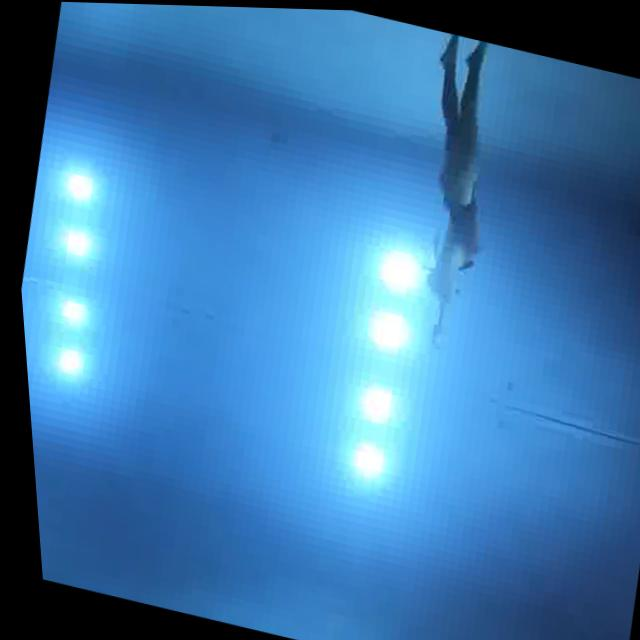human: (370, 26, 526, 354)
